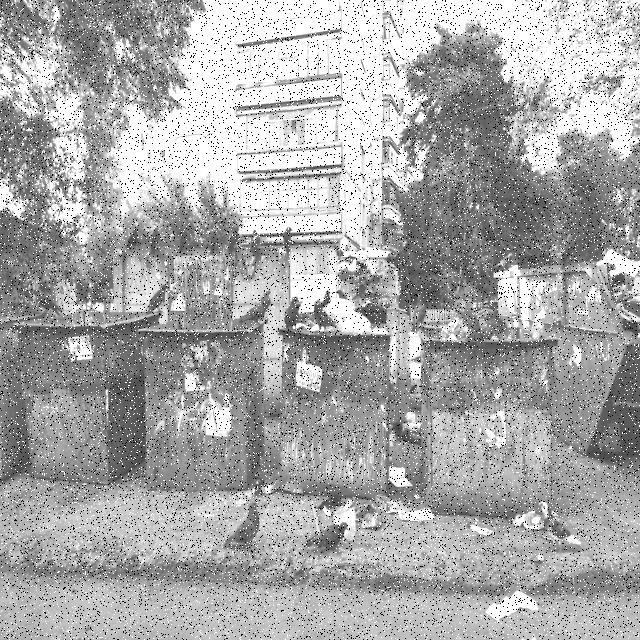Trashcan: (410, 294, 570, 567), (21, 278, 166, 513), (488, 248, 640, 463), (271, 288, 408, 502), (135, 308, 275, 496)
